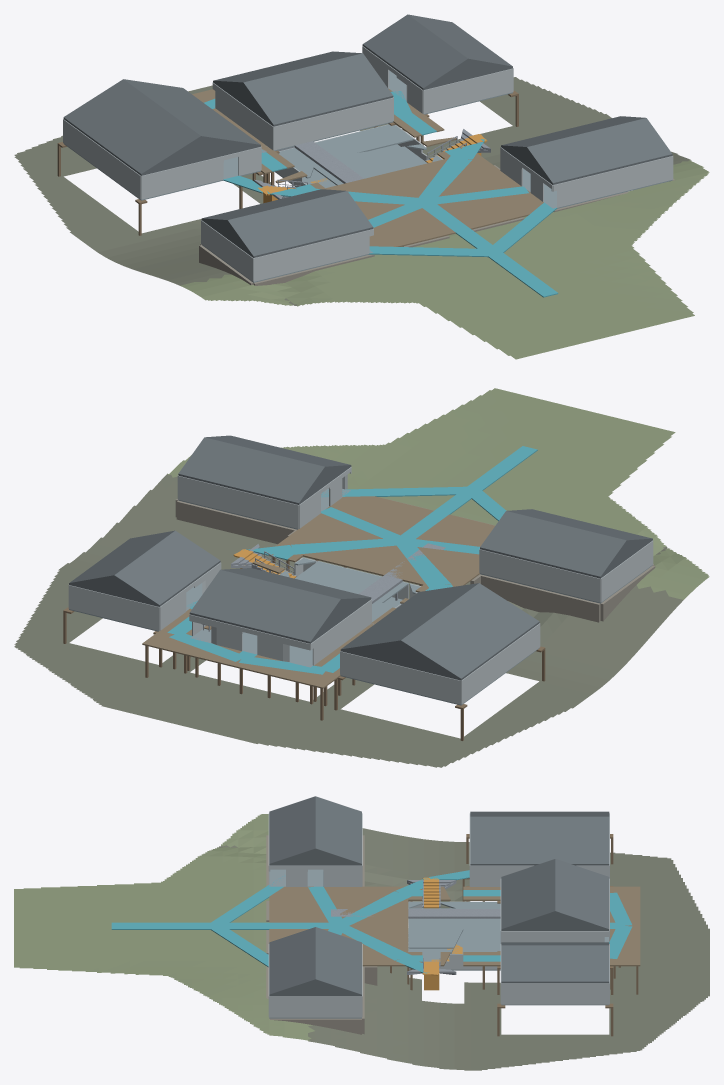
File: enclosed-roofs.glb
3 renders of one model, top to bottom at view 1: azimuth 30°, elevation 25°; view 2: azimuth 150°, elevation 25°; view 3: azimuth 270°, elevation 25°, orthographic. The views are drawn at different scales.
Visible parts, largest first — view 1: Saved editor macroterrain WLD-06, boathouse roof west, fish-house roof south, west-cottage roof south, east-cottage roof south, net-store roof west, Wall fish S, boathouse roof east, Flat route shell Wall cottage-a S, Flat route shell Wall cottage-b S, Wall net S, Flat route shell Wall boathouse S (+25 smaller); view 2: Saved editor macroterrain WLD-06, boathouse roof west, fish-house roof north, east-cottage roof north, west-cottage roof north, net-store roof west, Wall cottage-a N, Wall boathouse N, Wall cottage-b N, boathouse roof east, Wall net N, Wall boathouse W (+24 smaller); view 3: Saved editor macroterrain WLD-06, boathouse roof east, net-store roof east, fish-house roof south, fish-house roof north, west-cottage roof north, west-cottage roof south, east-cottage roof north, east-cottage roof south, Wall net E, Wall cottage-b E, Flat route shell Wall fish E (+24 smaller).
Part boxes in pixels (box(x1,y1,x2,y2)): Saved editor macroterrain WLD-06: box(14, 77, 709, 359); boathouse roof west: box(63, 79, 200, 174); fish-house roof south: box(243, 53, 393, 126); west-cottage roof south: box(227, 191, 373, 257); east-cottage roof south: box(527, 118, 672, 184); net-store roof west: box(362, 14, 468, 89); Wall fish S: box(273, 97, 393, 150); boathouse roof east: box(124, 79, 260, 146); Flat route shell Wall cottage-a S: box(253, 229, 373, 281); Flat route shell Wall cottage-b S: box(553, 156, 672, 207); Wall net S: box(423, 68, 513, 113); Flat route shell Wall boathouse S: box(141, 156, 223, 199); Saved editor macroterrain WLD-06: box(14, 388, 709, 767); boathouse roof west: box(401, 583, 539, 680); fish-house roof north: box(189, 570, 340, 643); east-cottage roof north: box(178, 437, 324, 504); west-cottage roof north: box(480, 511, 626, 578); net-store roof west: box(114, 530, 220, 606); Wall cottage-a N: box(479, 549, 600, 602); Wall boathouse N: box(340, 651, 461, 704); Wall cottage-b N: box(178, 475, 298, 528); boathouse roof east: box(340, 583, 478, 650); Wall net N: box(68, 585, 159, 630); Wall boathouse W: box(461, 623, 540, 704); Saved editor macroterrain WLD-06: box(14, 814, 709, 1070); boathouse roof east: box(470, 816, 609, 865); net-store roof east: box(501, 945, 609, 982); fish-house roof south: box(501, 859, 555, 930); fish-house roof north: box(555, 859, 609, 930); west-cottage roof north: box(315, 796, 361, 864); west-cottage roof south: box(269, 796, 315, 864); east-cottage roof north: box(315, 927, 361, 995); east-cottage roof south: box(269, 927, 315, 995); Wall net E: box(501, 983, 609, 1004); Wall cottage-b E: box(269, 996, 361, 1017); Flat route shell Wall fish E: box(501, 931, 609, 942).
Bounding box in the file's own units: 70 × 11.1 × 90.
36 materials, 13 textured.
